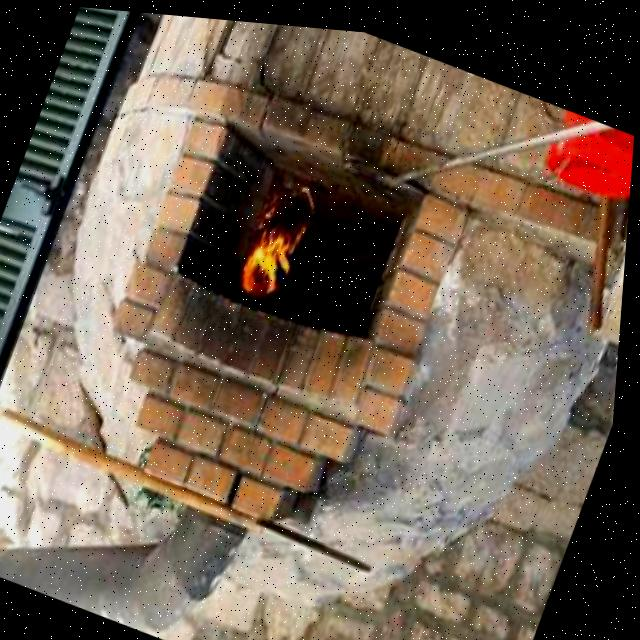Fire: (235, 185, 318, 309)
